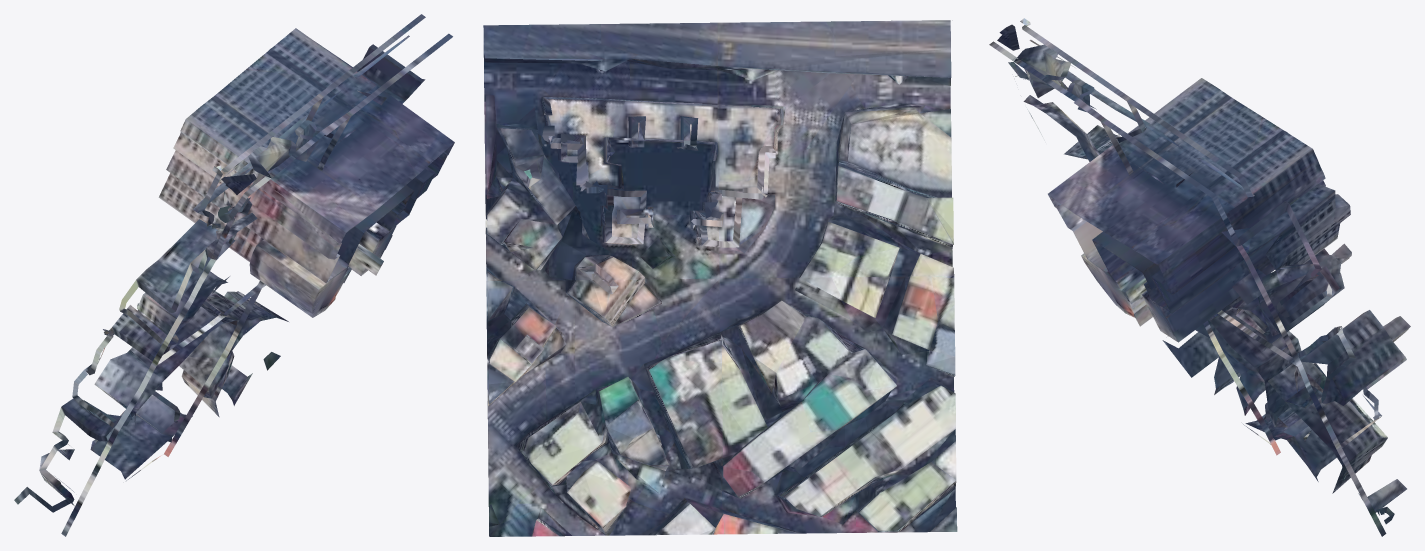
The picture shows the model from 3 angles, left to right: view 1: azimuth 30°, elevation 25°; view 2: azimuth 150°, elevation 25°; view 3: azimuth 270°, elevation 25°; orthographic projection. The views are drawn at different scales.
Bounding box in the file's own units: 163 × 146 × 137.
Materials: 3 (3 with a texture image).
